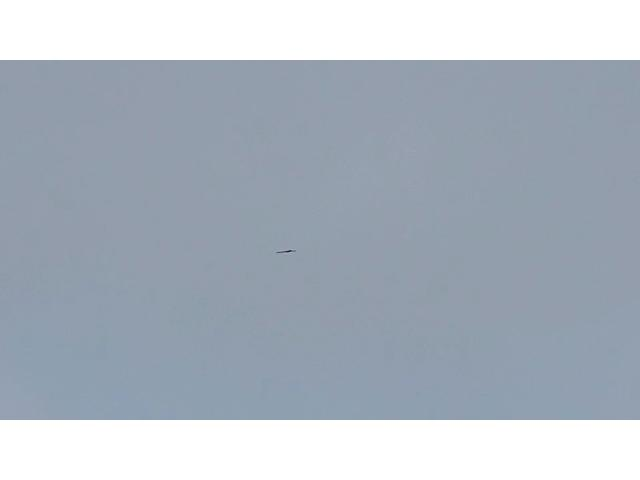Anti-Drone: (276, 248, 296, 253)
